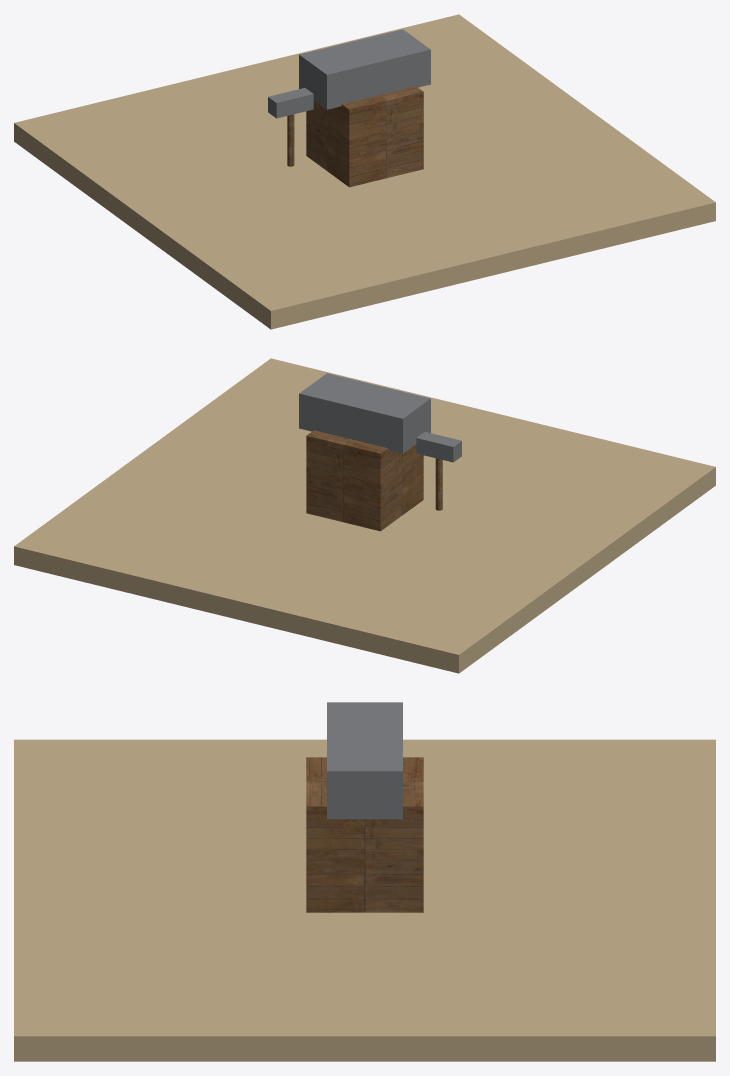
File: bigorna.glb
The picture shows the model from 3 angles, top to bottom: view 1: azimuth 30°, elevation 25°; view 2: azimuth 150°, elevation 25°; view 3: azimuth 270°, elevation 25°; orthographic projection. The views are drawn at different scales.
Visible parts, largest first — view 1: Base ilustrativa, Cepo, Corpo da bigorna, Cabeça do martelo; view 2: Base ilustrativa, Cepo, Corpo da bigorna, Cabeça do martelo; view 3: Base ilustrativa, Cepo, Corpo da bigorna.
Part boxes in pixels (x1,y1,x2,y2): Base ilustrativa: (14, 14, 715, 329); Cepo: (306, 86, 423, 187); Corpo da bigorna: (299, 29, 430, 109); Cabeça do martelo: (268, 88, 313, 118); Base ilustrativa: (14, 358, 715, 673); Cepo: (306, 430, 423, 531); Corpo da bigorna: (299, 373, 430, 453); Cabeça do martelo: (416, 432, 461, 462); Base ilustrativa: (14, 739, 715, 1061); Cepo: (306, 757, 423, 912); Corpo da bigorna: (327, 702, 402, 819).
Bounding box in the file's own units: 6 × 1.67 × 6.
3 materials, 1 textured.
